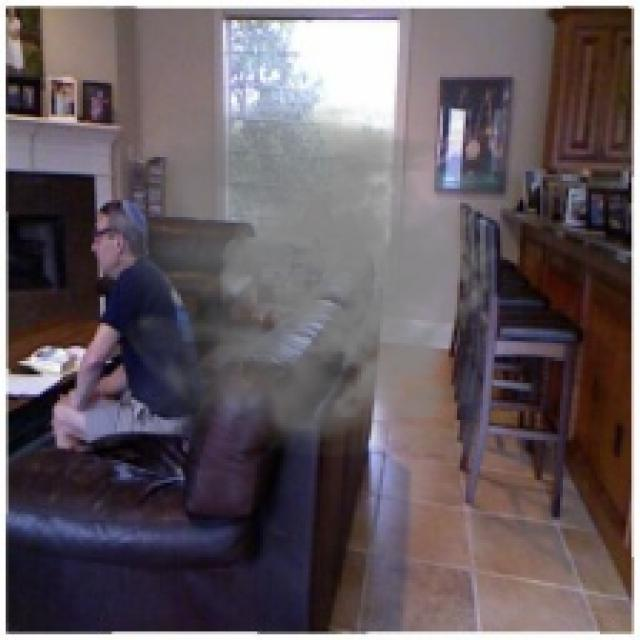smoke: (120, 103, 500, 457)
